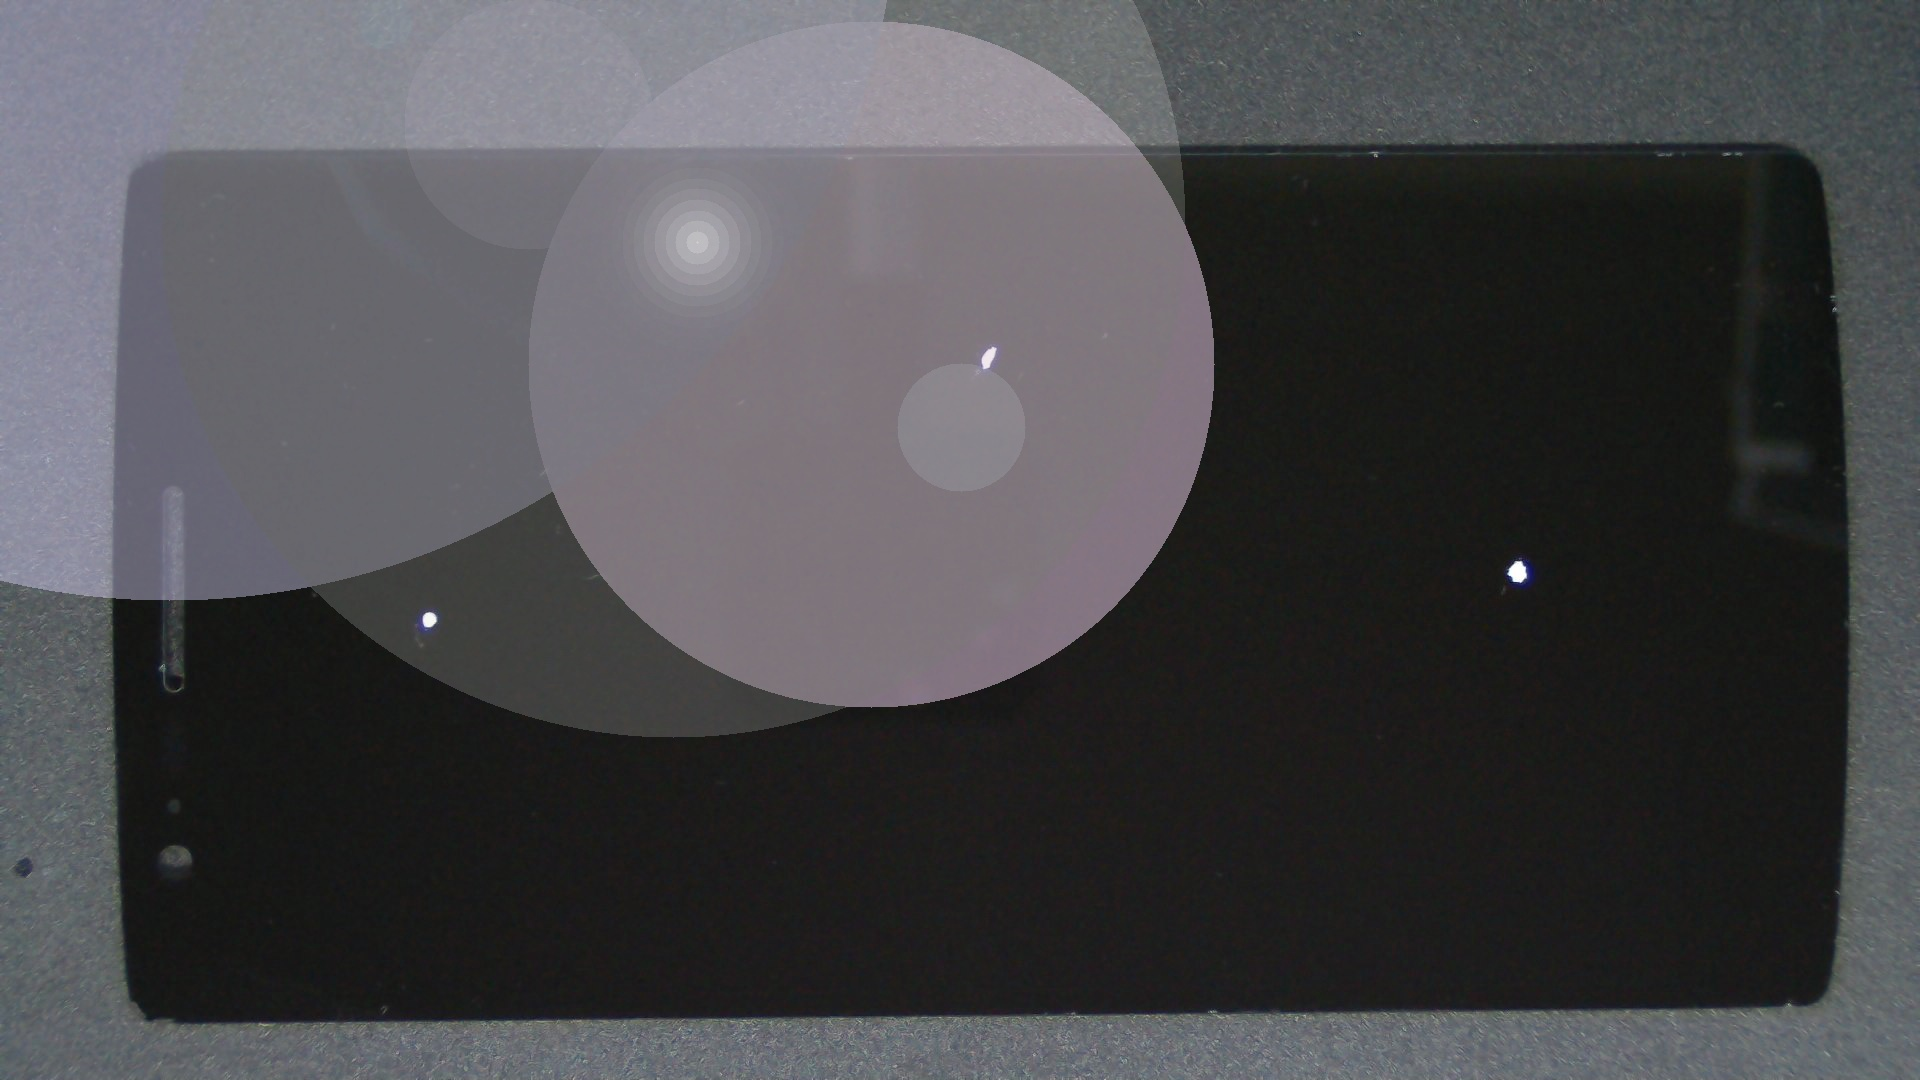oil: (758, 278, 1920, 840), (497, 170, 1480, 520), (215, 303, 637, 916)
